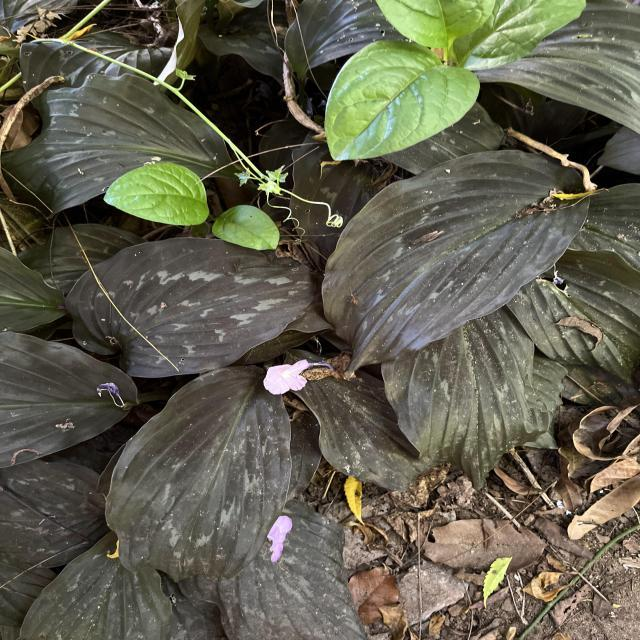Kaempferia galanga linn: (316, 148, 594, 374), (103, 362, 294, 585), (63, 234, 328, 380), (380, 315, 550, 492)
